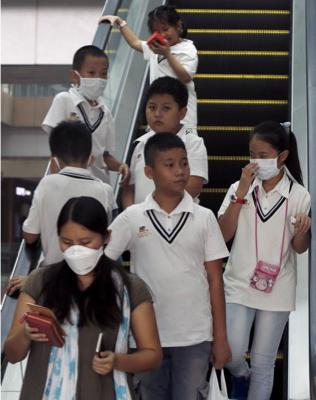with_mask: (57, 234, 103, 277), (77, 64, 109, 99), (247, 149, 280, 181)
without_mask: (157, 156, 191, 194), (144, 100, 179, 135), (150, 25, 180, 46)
